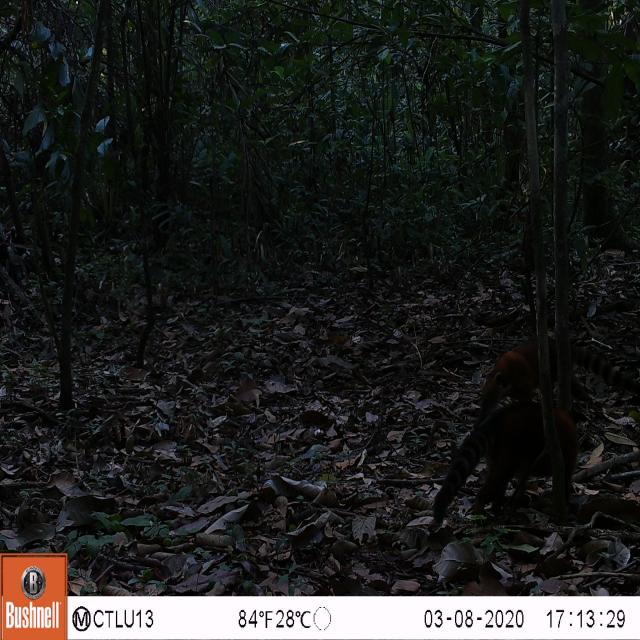South American Coati: (430, 396, 591, 532), (471, 332, 640, 425)
